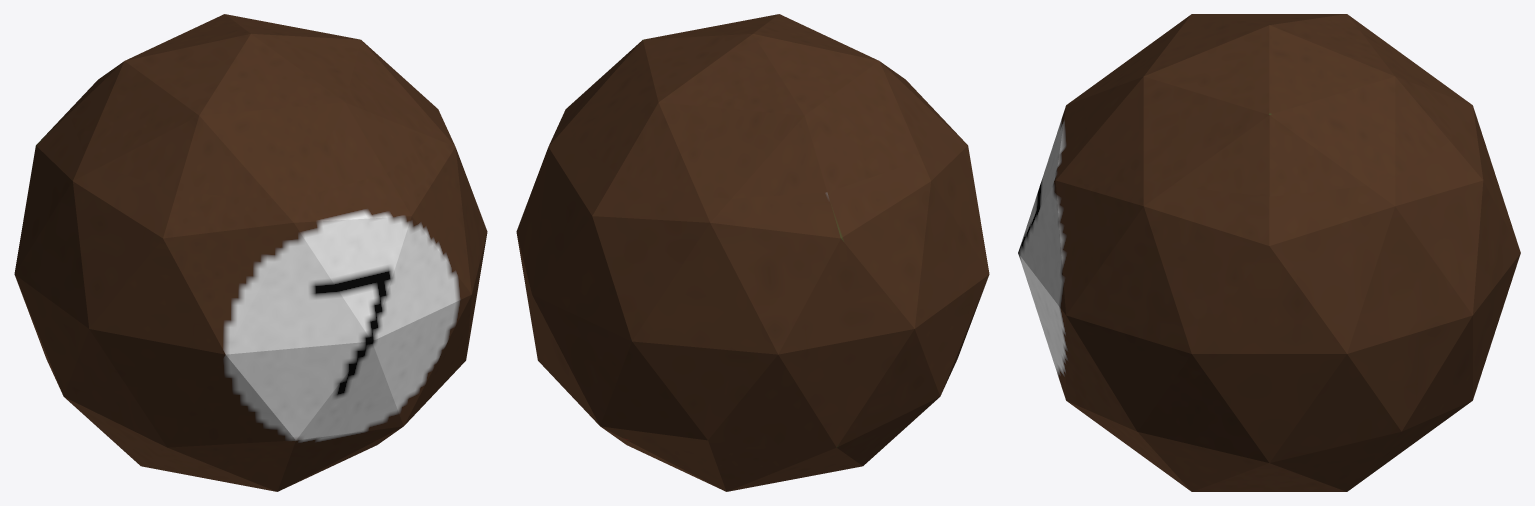
File: pool_ball_7.obj
The picture shows the model from 3 angles, left to right: view 1: azimuth 30°, elevation 25°; view 2: azimuth 150°, elevation 25°; view 3: azimuth 270°, elevation 25°; orthographic projection. The views are drawn at different scales.
Parts seen in each view (by area): view 1: PoolBall_07; view 2: PoolBall_07; view 3: PoolBall_07.
Boxes of the visible parts, box(x1,y1,x2,y2) form: PoolBall_07: box(14, 14, 487, 491); PoolBall_07: box(516, 14, 989, 491); PoolBall_07: box(1018, 14, 1520, 491).
Bounding box in the file's own units: 0.0709 × 0.0745 × 0.0745.
1 material, 1 textured.
